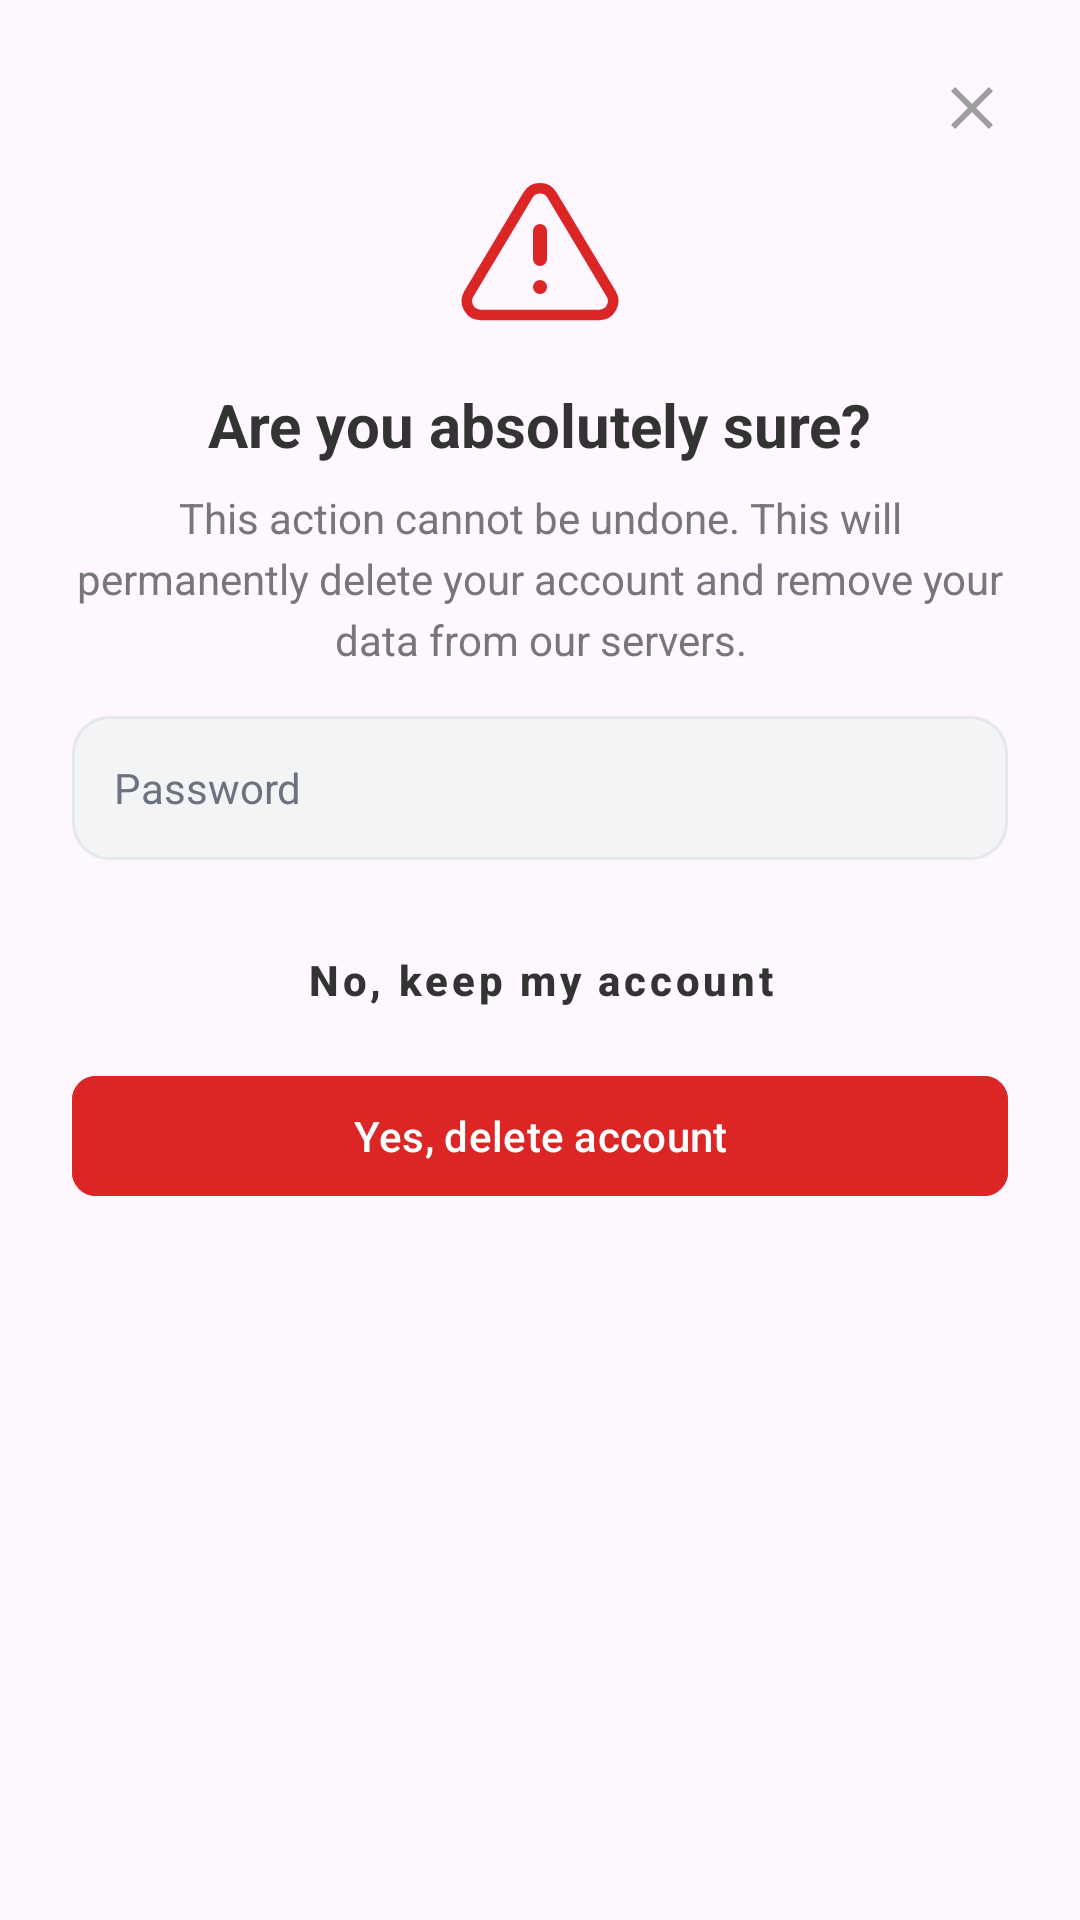

Icons on this 1080 x 1920 Android screen, each with its box as (x1, y1, x2, y2):
Close: (951, 87, 993, 129)
Warning: (461, 183, 619, 321)
